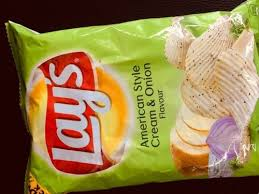lays-med: (3, 17, 259, 181)
